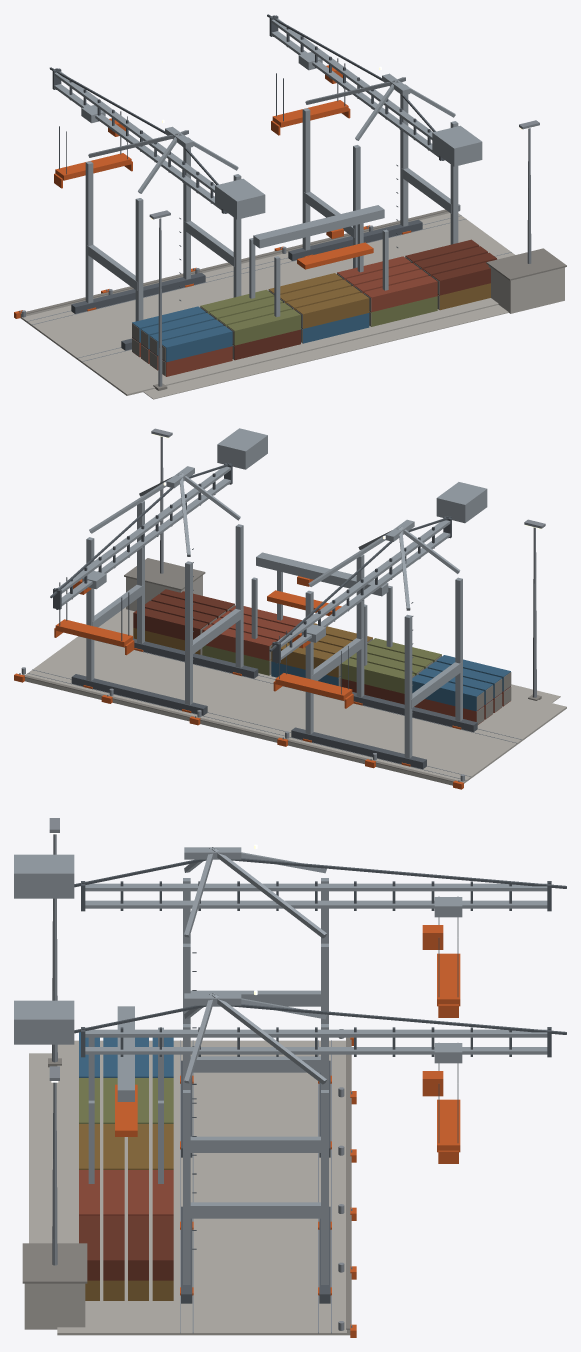
Rendered from port_terminal.glb.
3 views of the same model, one above another, from view 1: azimuth 30°, elevation 25°; view 2: azimuth 150°, elevation 25°; view 3: azimuth 270°, elevation 25° (orthographic). The views are drawn at different scales.
Visible parts, largest first — view 1: Port_Crane, Port_Concrete, Port_CraneFrame, Port_Container2, Port_Container0, Port_Container3, Port_Container4, Port_Container1, Port_ConcreteDark, Port_Warn, Port_Steel; view 2: Port_Crane, Port_Concrete, Port_CraneFrame, Port_Warn, Port_ConcreteDark, Port_Container3, Port_Container1, Port_Container0, Port_Container2, Port_Steel, Port_Container4; view 3: Port_Concrete, Port_Crane, Port_CraneFrame, Port_Warn, Port_Container1, Port_Container4, Port_ConcreteDark, Port_Container0, Port_Steel, Port_Container3, Port_Container2.
Part boxes in pixels (x1,y1,x2,y2): Port_Crane: (54, 18, 482, 321); Port_Concrete: (20, 211, 564, 399); Port_CraneFrame: (49, 14, 444, 350); Port_Container2: (132, 306, 369, 362); Port_Container0: (132, 256, 437, 376); Port_Container3: (200, 289, 437, 345); Port_Container4: (268, 273, 490, 328); Port_Container1: (232, 239, 497, 360); Port_ConcreteDark: (20, 209, 566, 390); Port_Warn: (14, 65, 411, 318); Port_Steel: (19, 120, 539, 386); Port_Crane: (58, 428, 487, 758); Port_Concrete: (25, 575, 566, 785); Port_CraneFrame: (50, 463, 477, 769); Port_Warn: (14, 576, 463, 789); Port_ConcreteDark: (22, 558, 541, 781); Port_Container3: (202, 638, 441, 693); Port_Container1: (133, 589, 404, 704); Port_Container0: (202, 605, 510, 724); Port_Container2: (271, 655, 510, 711); Port_Steel: (19, 428, 545, 781); Port_Container4: (133, 623, 372, 677); Port_Concrete: (24, 1040, 350, 1335); Port_Crane: (14, 847, 547, 1284); Port_CraneFrame: (74, 858, 566, 1303); Port_Warn: (115, 925, 460, 1337); Port_Container1: (79, 1216, 173, 1280); Port_Container4: (79, 1124, 173, 1300); Port_ConcreteDark: (22, 1037, 351, 1329); Port_Container0: (79, 1170, 173, 1215); Port_Steel: (49, 818, 352, 1333); Port_Container3: (79, 1078, 173, 1123); Port_Container2: (79, 1032, 173, 1077).
Size of the model in its own units: 8.16 by 3.46 by 6.4.
